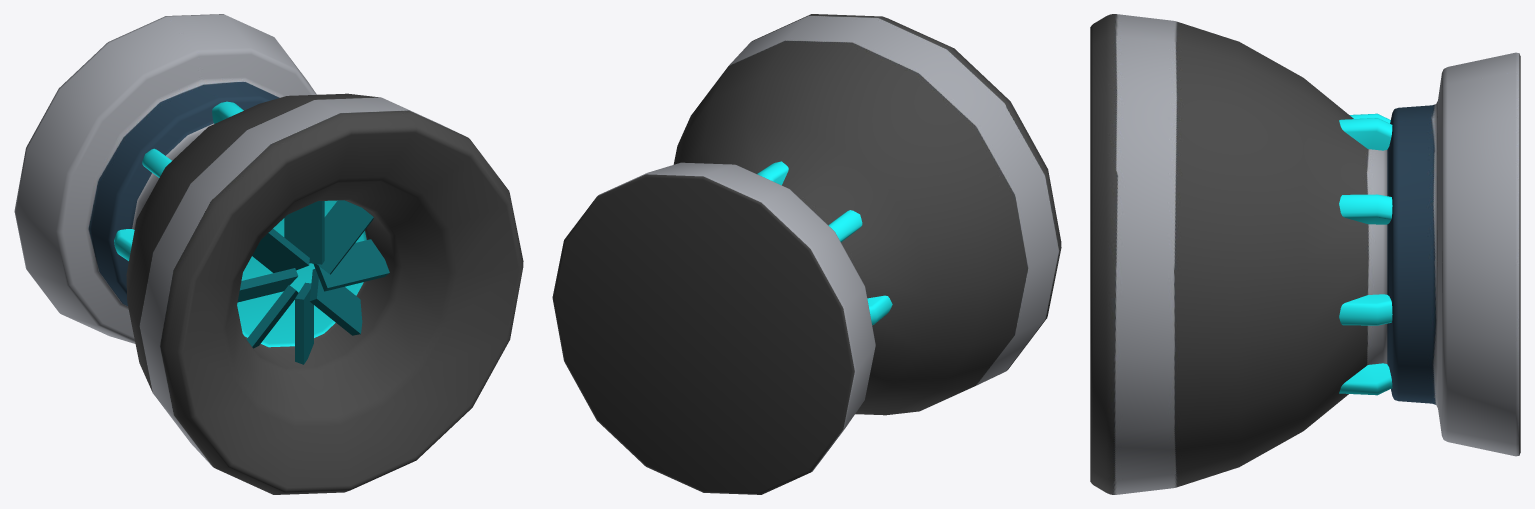
Rendered from Assist_danqiping01.FBX.
The picture shows the model from 3 angles, left to right: view 1: azimuth 30°, elevation 25°; view 2: azimuth 150°, elevation 25°; view 3: azimuth 270°, elevation 25°; orthographic projection. The views are drawn at different scales.
Visible parts, largest first — view 1: Assist_danqiping01; view 2: Assist_danqiping01; view 3: Assist_danqiping01.
Boxes of the visible parts, x1,y1,x2,y2 form: Assist_danqiping01: (14,14,523,494); Assist_danqiping01: (552,14,1061,494); Assist_danqiping01: (1090,14,1520,494).
Bounding box in the file's own units: 0.8607 × 0.8607 × 0.7694.
1 material, 1 textured.
